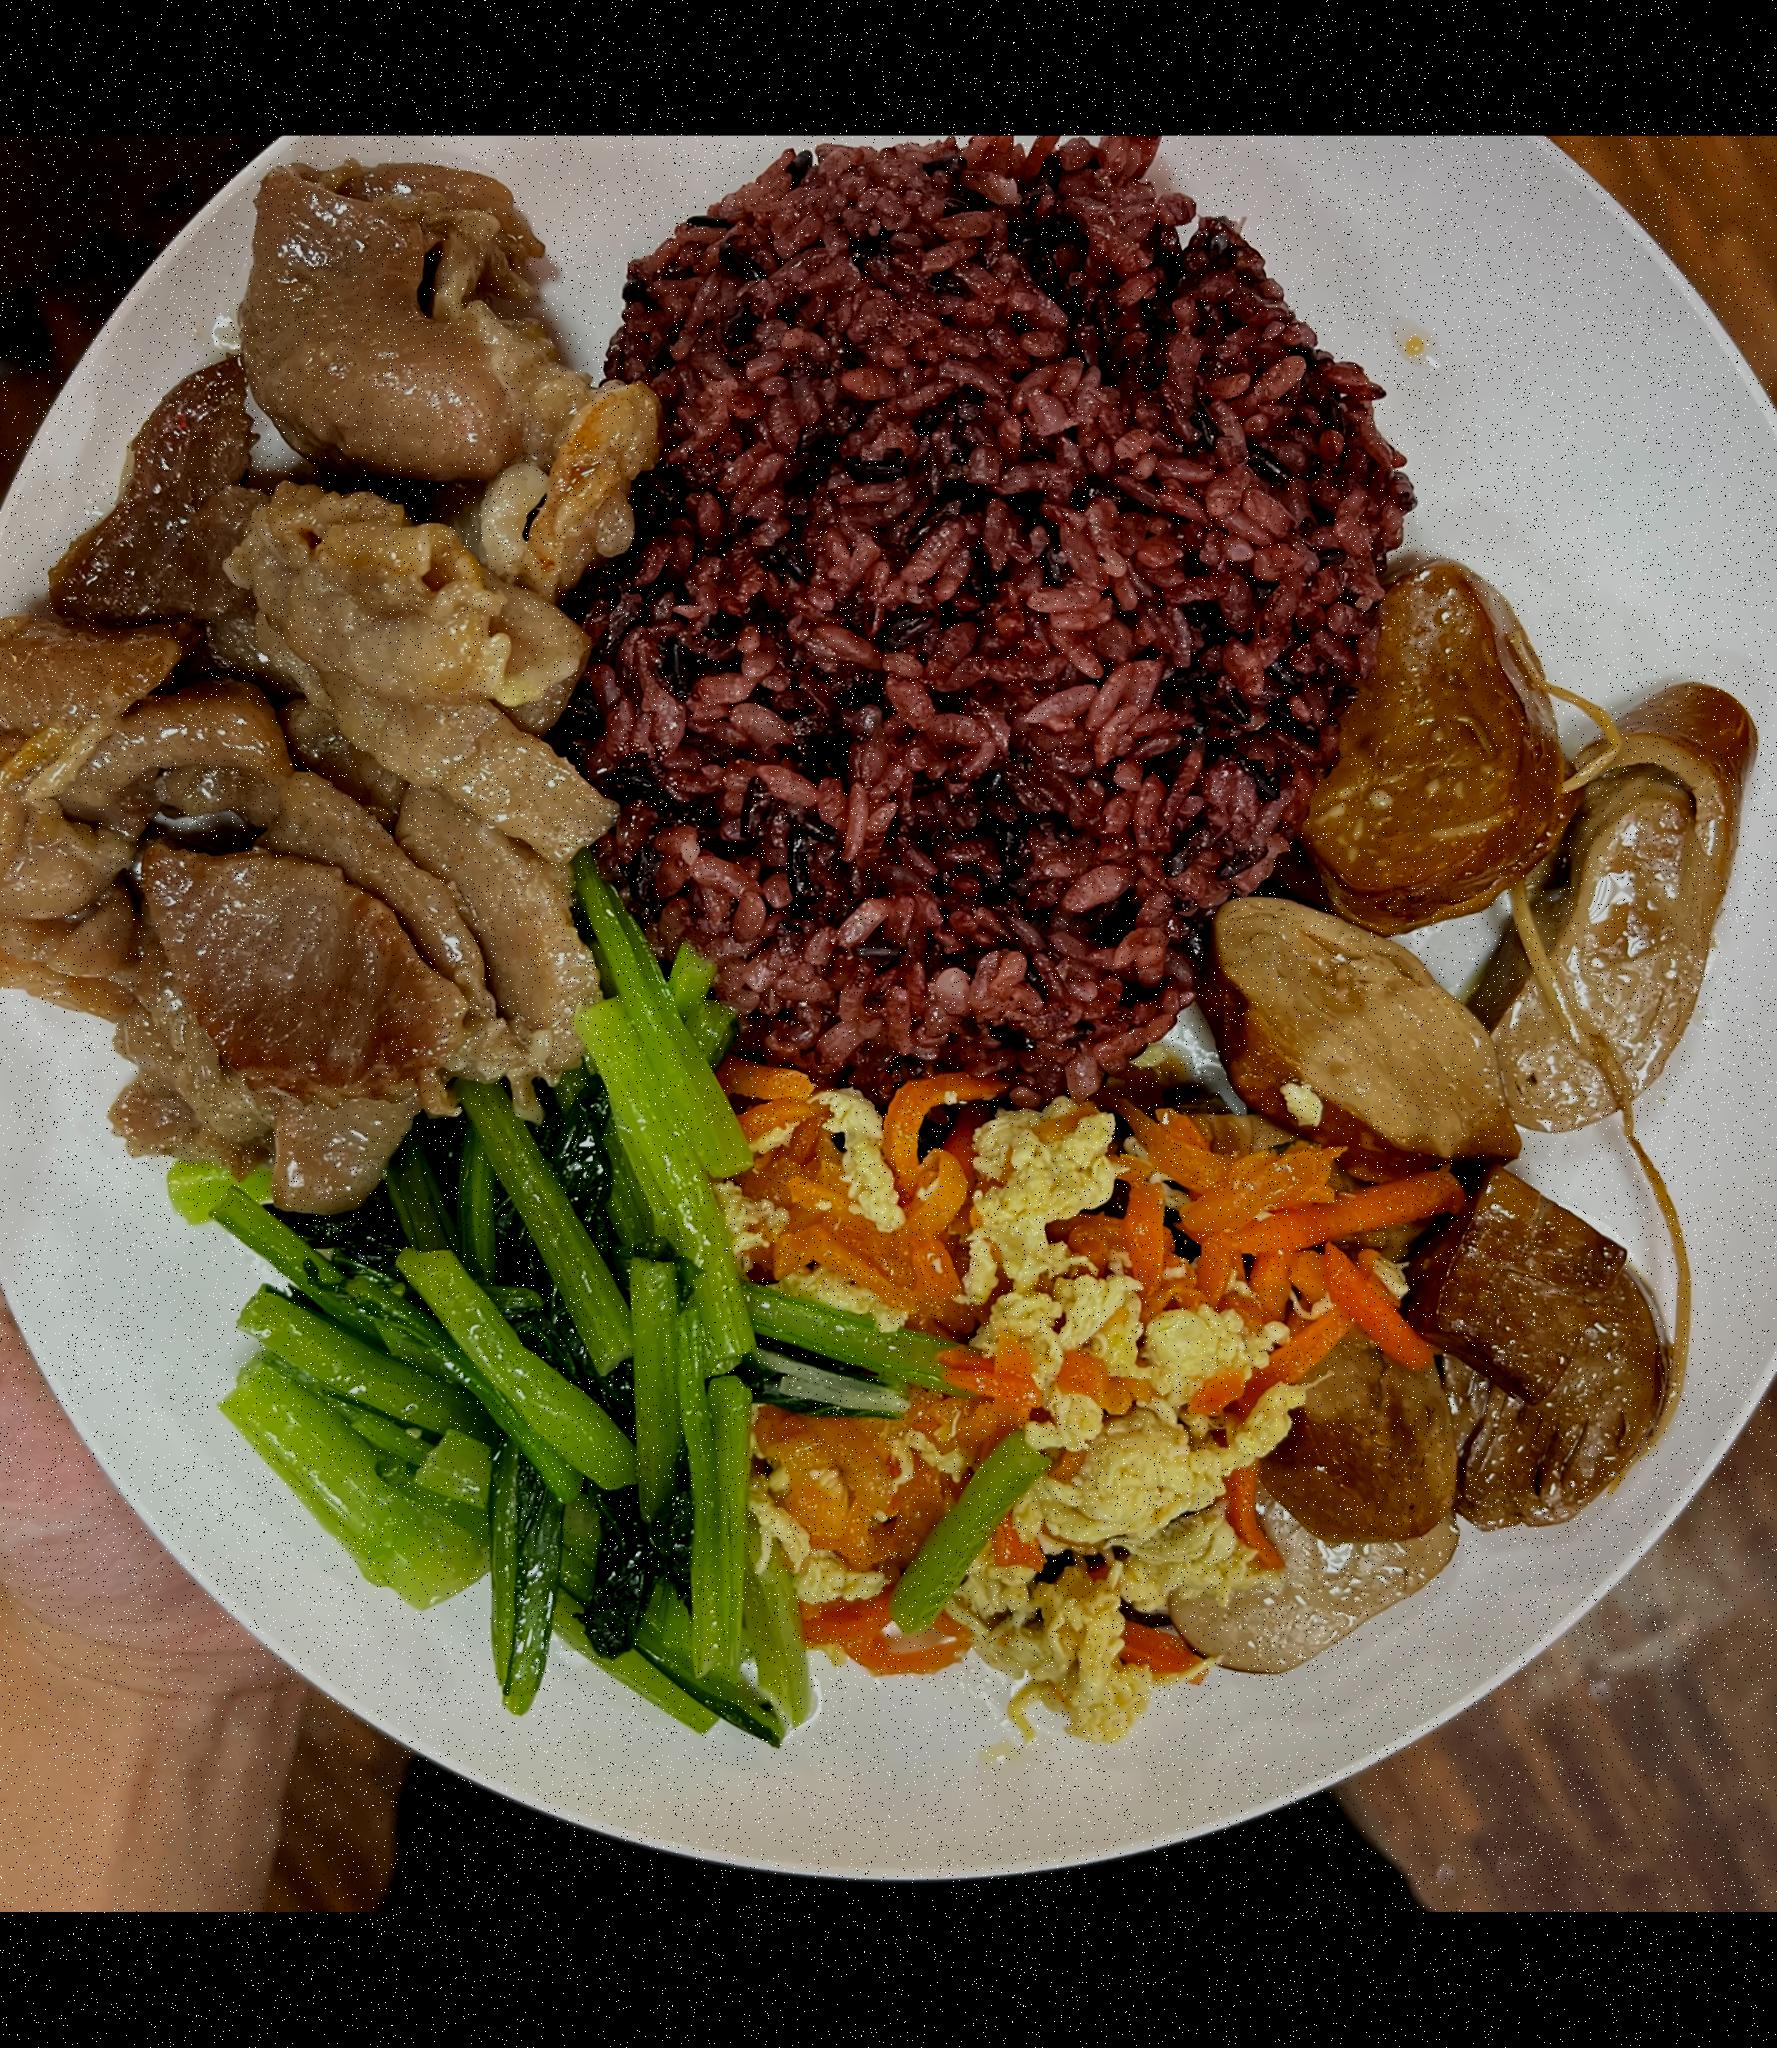big fried chicken leg: (0, 142, 1777, 1912)
braised fish: (588, 178, 1447, 1130)
braised fish fillet: (1222, 625, 1777, 1544), (254, 1032, 812, 1759), (725, 1074, 1364, 1682)
braised pork: (0, 190, 677, 1196)
